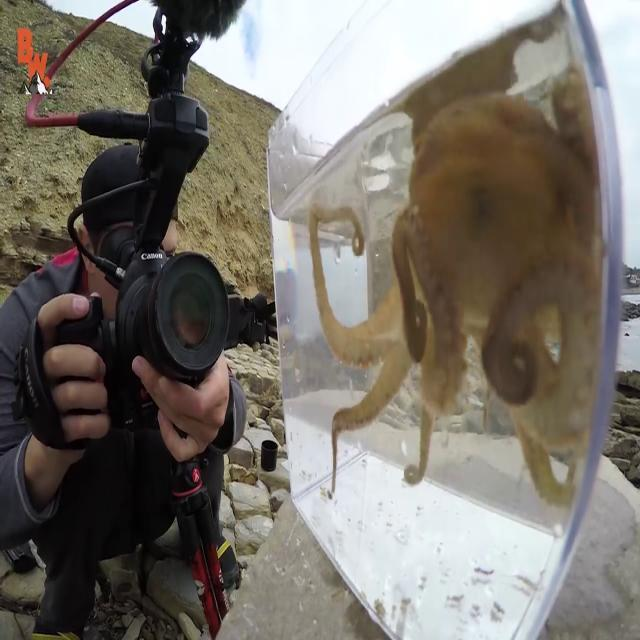octopus: (308, 24, 605, 515)
